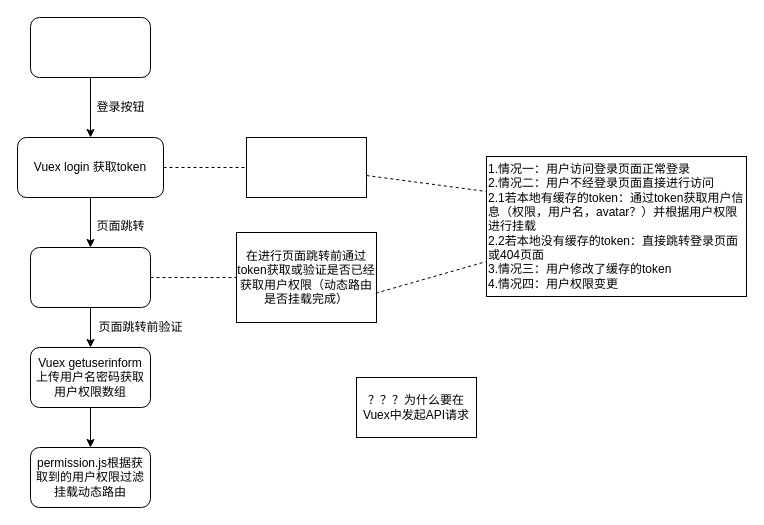
Image size: 764x525. Some labels were removed from this diagram. The shapes that lost their labels are listed below. From the top down, each one's centre as x and y in pixels, then its label:
At point (90, 47): "login页面".
At point (306, 167): "login只获取token不获取权限".
At point (90, 277): "permission.js上的路由守卫".
